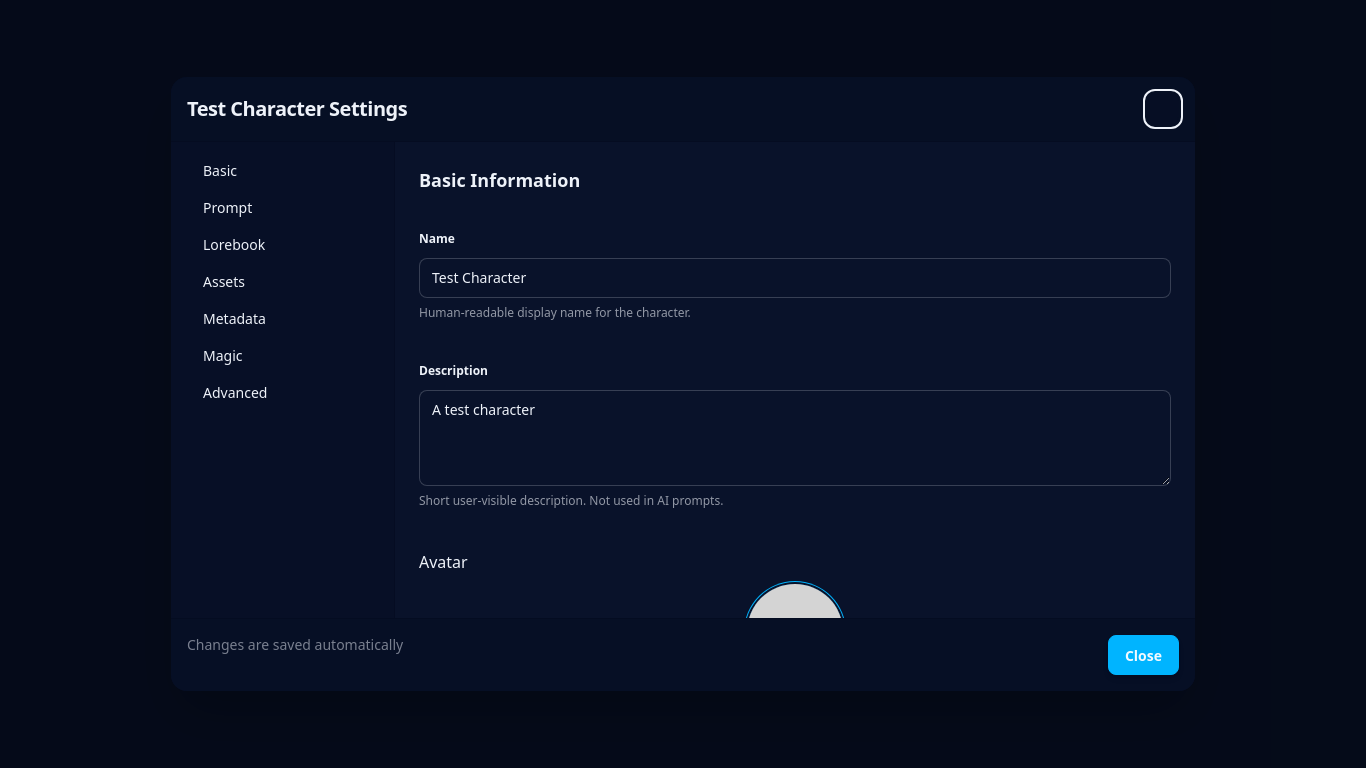
Test: CharacterSettingsModal Component › handles lorebook entry addition
This screenshot has width=1366, height=768.
# Switch to Lorebook tab
Click the button with aria-label "Lorebook Settings": (282, 244) top-left (183, 228), bottom-right (382, 261)
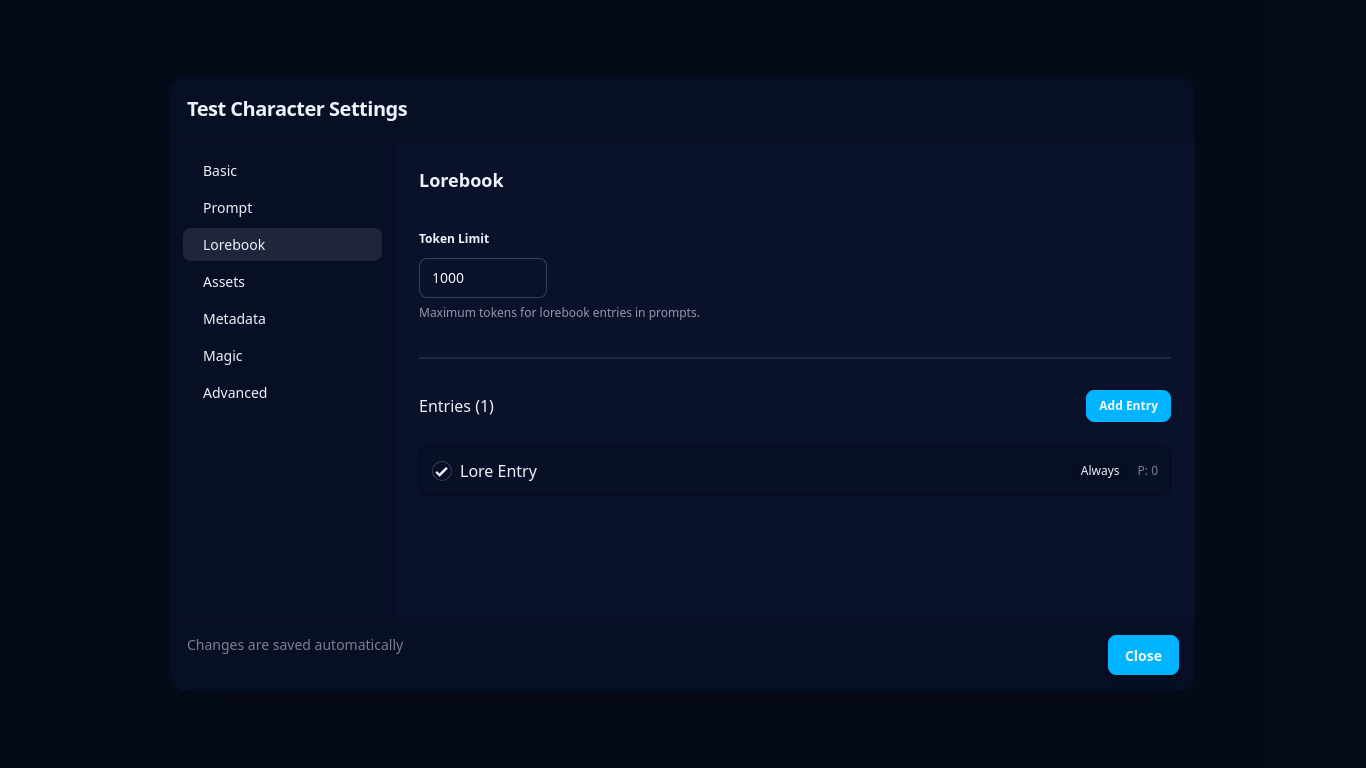
# Click Add Entry
Click the button "Add Entry": (1129, 406) top-left (1086, 390), bottom-right (1171, 422)
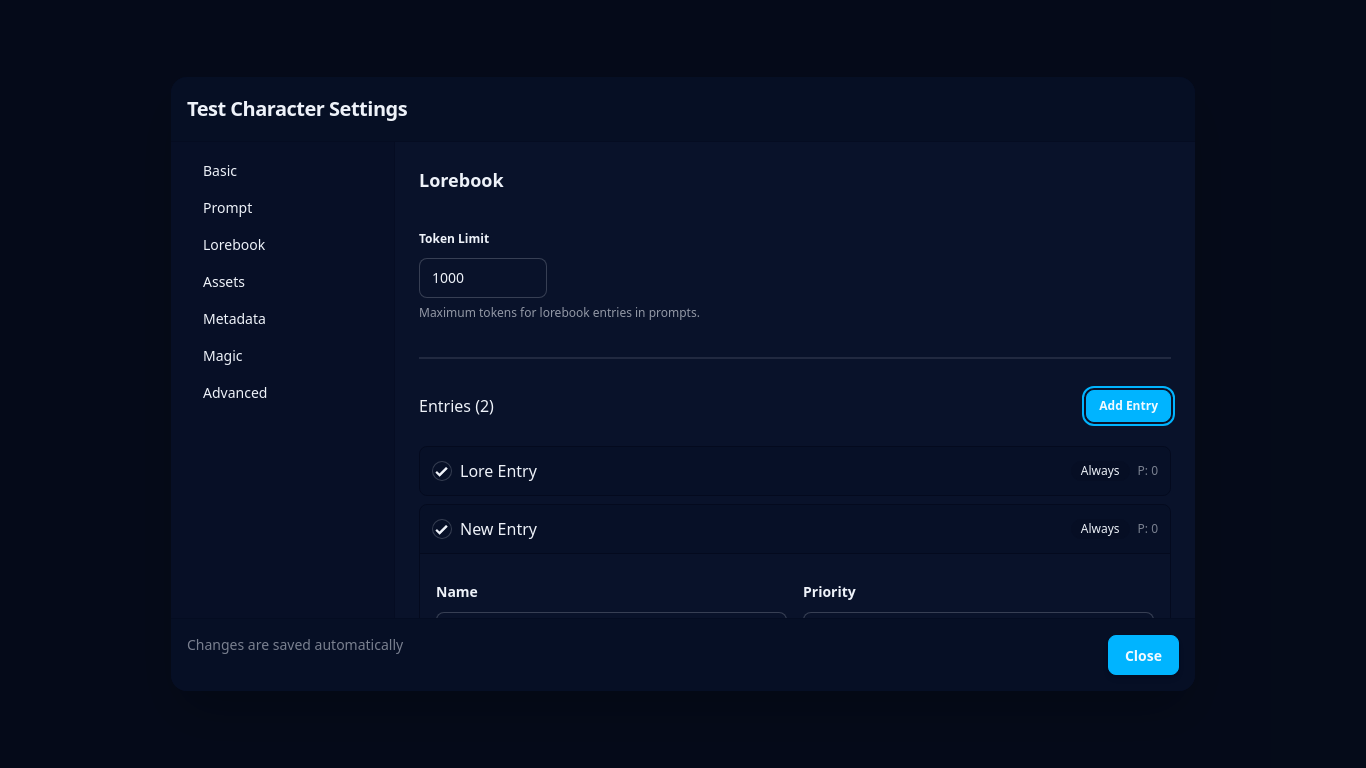
Result: the heading "Entries (2)" is shown at top-left (419, 394), bottom-right (494, 418)
